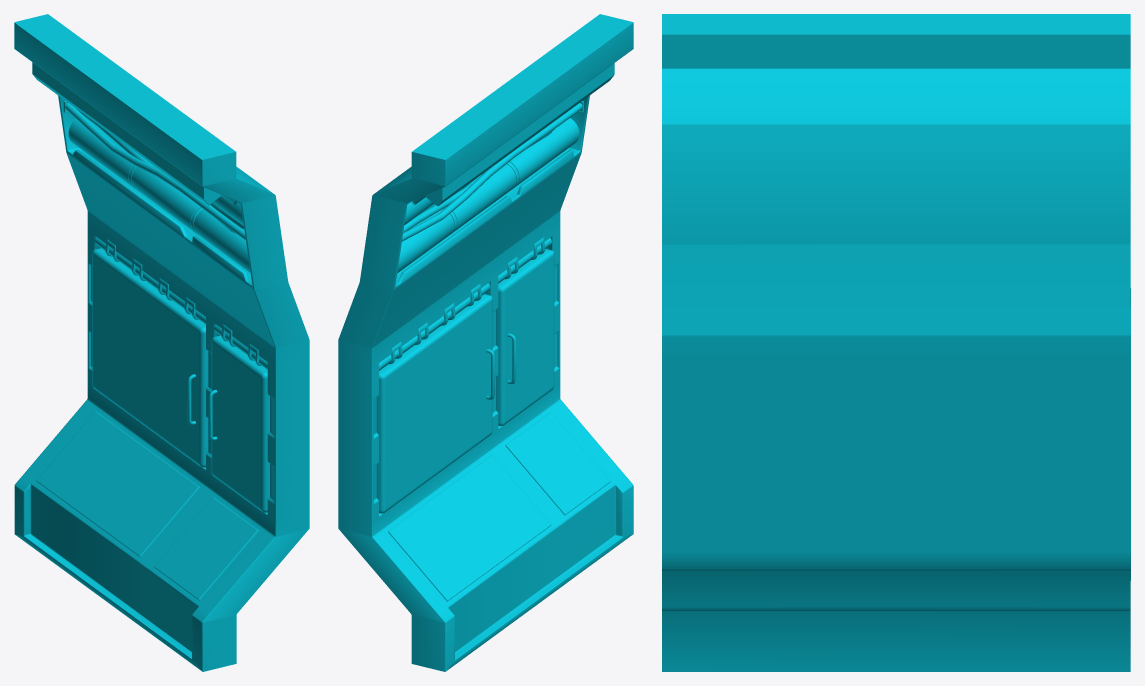
File: Wall01.fbx
3 renders of one model, left to right at view 1: azimuth 30°, elevation 25°; view 2: azimuth 150°, elevation 25°; view 3: azimuth 270°, elevation 25°, orthographic. The views are drawn at different scales.
Visible parts, largest first — view 1: SM_Wall01; view 2: SM_Wall01; view 3: SM_Wall01.
Boxes of the visible parts, x1,y1,x2,y2 form: SM_Wall01: [14, 14, 309, 671]; SM_Wall01: [338, 14, 633, 671]; SM_Wall01: [662, 14, 1130, 671].
Size of the model in its own units: 65.86 by 300 by 200.
